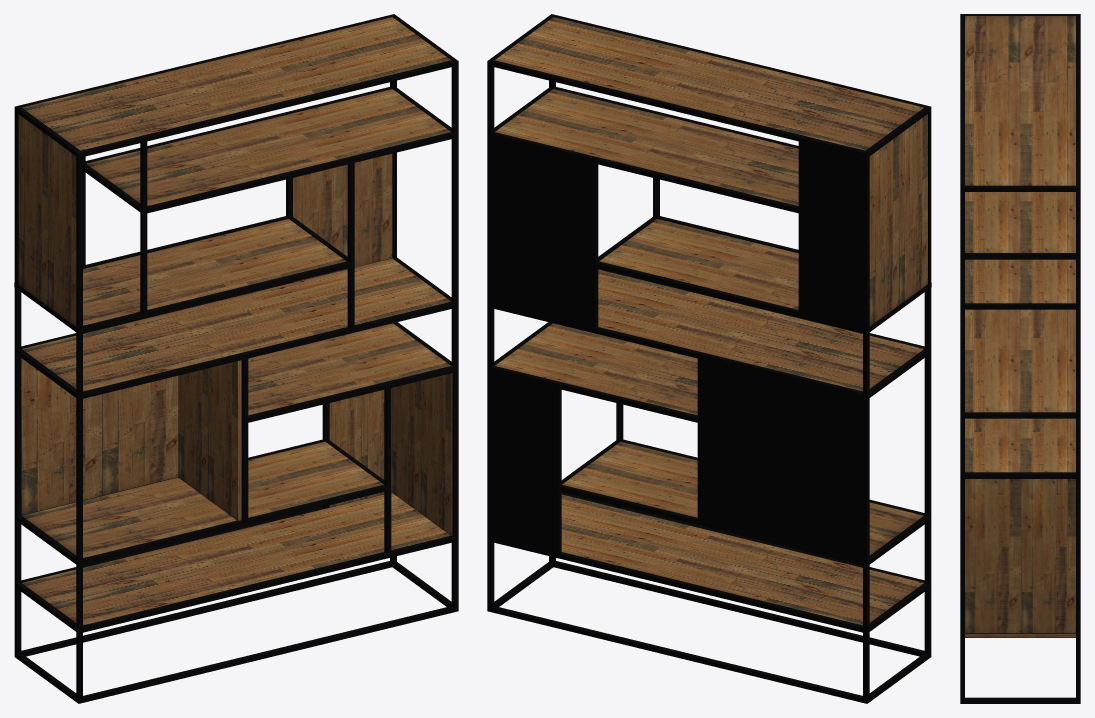
The model's file is example22.glb.
The picture shows the model from 3 angles, left to right: view 1: azimuth 30°, elevation 25°; view 2: azimuth 150°, elevation 25°; view 3: azimuth 270°, elevation 25°; orthographic projection. The views are drawn at different scales.
Visible parts, largest first — view 1: Merged Objects, Cube_2, Merged Objects 3, Cube_10, Cube_11, Merged Objects 1; view 2: Merged Objects, Merged Objects 2, Cube_2, Merged Objects 3; view 3: Merged Objects, Merged Objects 3, Cube_2.
Boxes of the visible parts, bbox=[...] form: Merged Objects: bbox=[22, 17, 450, 625]; Cube_2: bbox=[14, 14, 458, 703]; Merged Objects 3: bbox=[18, 114, 452, 535]; Cube_10: bbox=[21, 358, 178, 515]; Cube_11: bbox=[293, 154, 392, 282]; Merged Objects 1: bbox=[329, 388, 391, 507]; Merged Objects: bbox=[495, 17, 923, 625]; Merged Objects 2: bbox=[492, 136, 862, 560]; Cube_2: bbox=[487, 14, 931, 703]; Merged Objects 3: bbox=[869, 114, 927, 326]; Merged Objects: bbox=[965, 16, 1075, 637]; Merged Objects 3: bbox=[965, 479, 1075, 632]; Cube_2: bbox=[960, 14, 1080, 703].
Size of the model in its own units: 1.59 by 2.2 by 0.4664.
6 materials, 5 textured.
